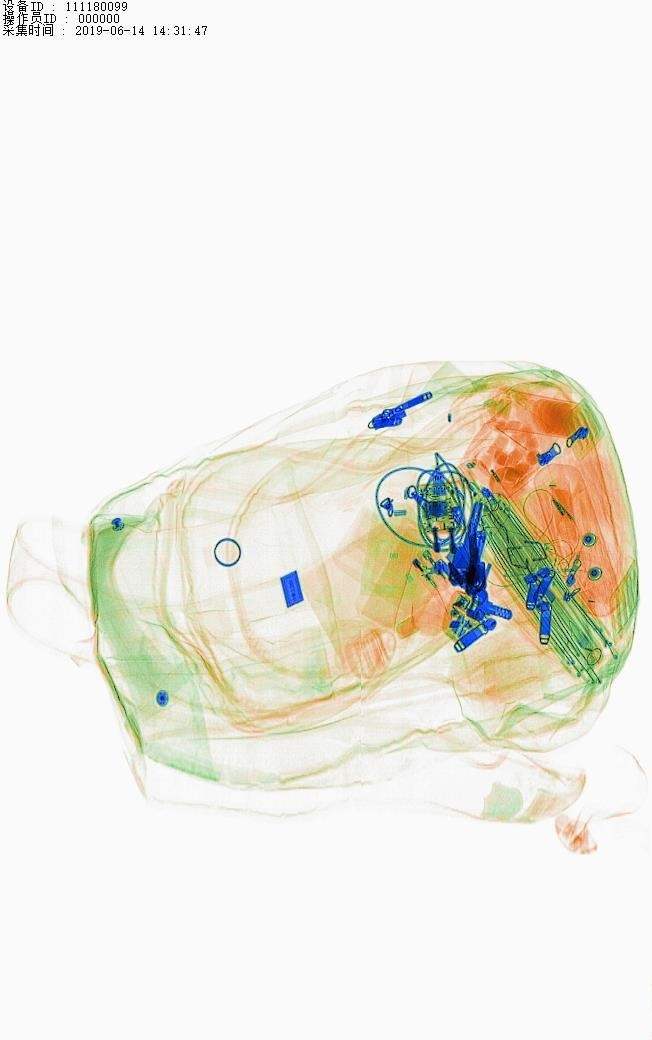NonmetallicFire: (402, 534, 469, 638)
